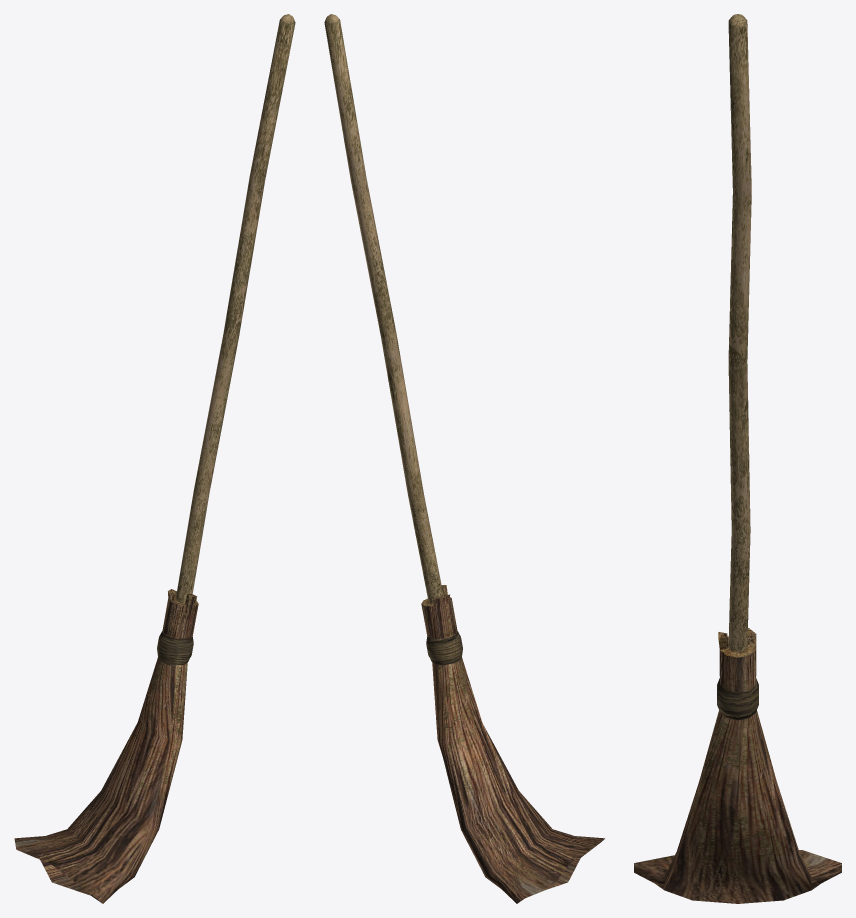
File: broom.FBX
The picture shows the model from 3 angles, left to right: view 1: azimuth 30°, elevation 25°; view 2: azimuth 150°, elevation 25°; view 3: azimuth 270°, elevation 25°; orthographic projection. The views are drawn at different scales.
Visible parts, largest first — view 1: broom; view 2: broom; view 3: broom.
Part boxes in pixels (x1,y1,x2,y2): broom: [14, 14, 295, 903]; broom: [324, 14, 604, 903]; broom: [634, 14, 841, 903].
Bounding box in the file's own units: 0.3951 × 1.21 × 0.2274.
